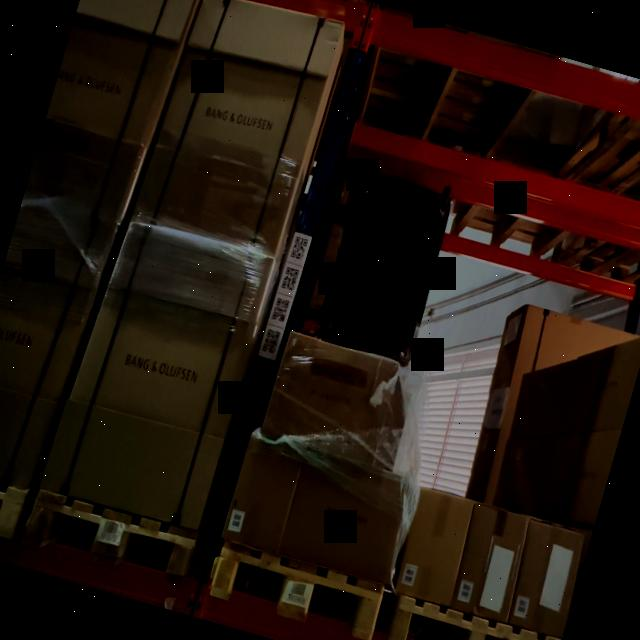box: (38, 221, 272, 531), (130, 0, 345, 258), (260, 329, 420, 470), (279, 448, 420, 584), (220, 436, 306, 550), (395, 483, 474, 604), (453, 505, 529, 623)
